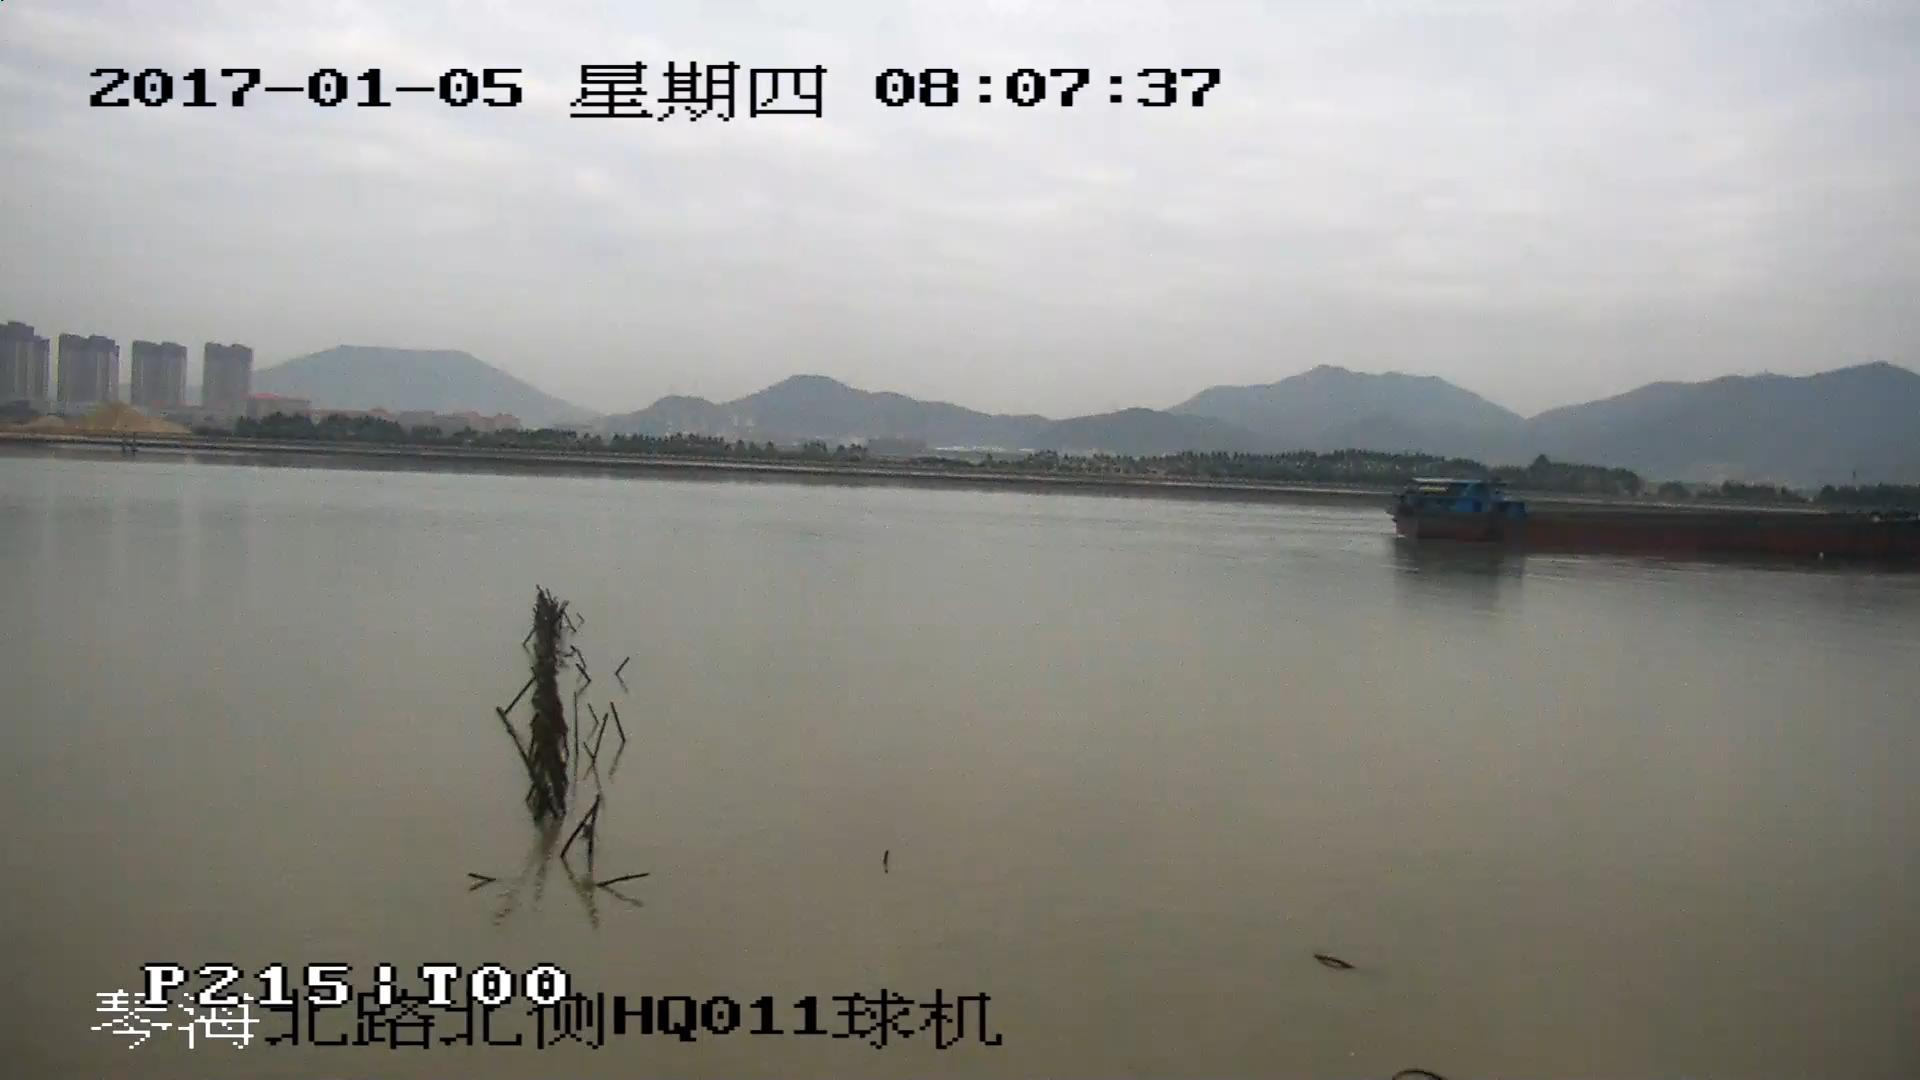Ship: (1389, 480, 1920, 559)
